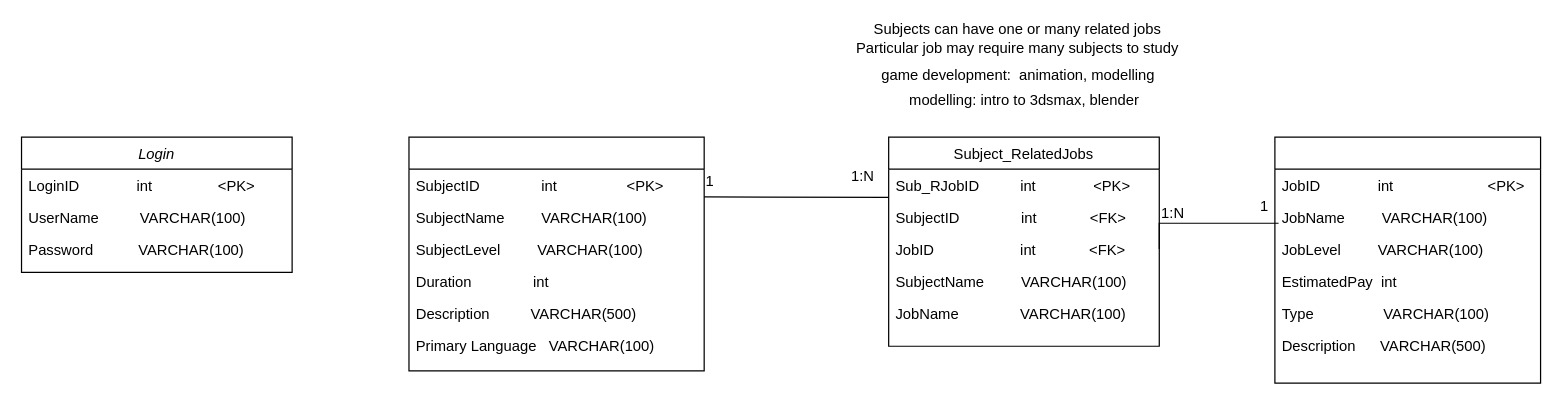
This 1562x405 diagram has some shape labels left out. The shapes that lost their labels are listed below. From the top down, each one's box as (x1, y1, x2, y2) in pixels, then its label:
(408, 136, 704, 371): CSSubjects
(1274, 136, 1541, 383): Jobs
